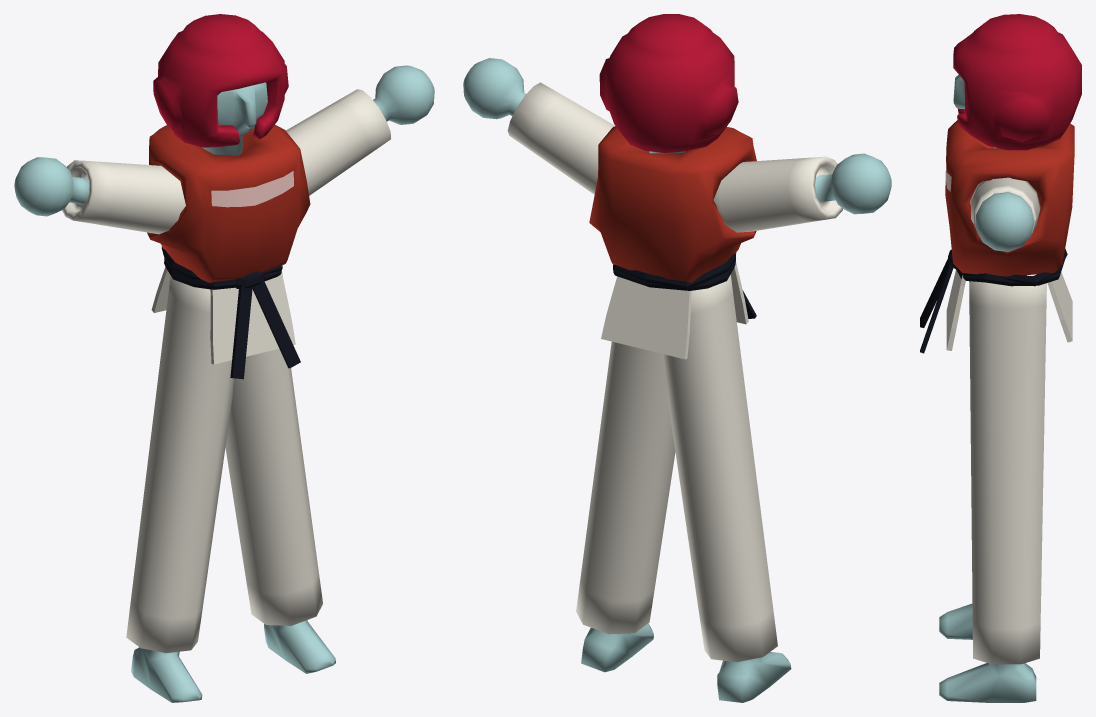
Rendered from player--fbx.fbx.
3 renders of one model, left to right at view 1: azimuth 30°, elevation 25°; view 2: azimuth 150°, elevation 25°; view 3: azimuth 270°, elevation 25°, orthographic. The views are drawn at different scales.
Parts seen in each view (by area): view 1: Cube.009, Cube.001, Cube, Sphere.005, Sphere.002, Sphere.006, Cube.008, Sphere.007, Cube.010, Cube.007, Torus; view 2: Cube.009, Cube.001, Cube, Sphere.005, Sphere.002, Sphere.006, Cube.002, Torus.001, Torus; view 3: Cube.001, Sphere.005, Cube, Sphere.006, Cube.009, Cube.002, Cube.008, Torus, Cube.010, Cube.007, Torus.001, Sphere.007.
Boxes of the visible parts, x1,y1,x2,y2 form: Cube.009: (126, 276, 233, 702); Cube.001: (225, 348, 335, 673); Cube: (147, 125, 310, 282); Sphere.005: (153, 14, 288, 147); Sphere.002: (14, 157, 185, 234); Sphere.006: (286, 65, 434, 195); Cube.008: (210, 270, 295, 364); Sphere.007: (202, 82, 267, 155); Cube.010: (252, 279, 300, 368); Cube.007: (230, 284, 252, 379); Torus: (164, 258, 281, 289); Cube.009: (664, 275, 791, 702); Cube.001: (576, 341, 675, 672); Cube: (589, 126, 756, 282); Sphere.005: (599, 14, 738, 152); Sphere.002: (713, 153, 891, 232); Sphere.006: (463, 58, 614, 194); Cube.002: (601, 276, 691, 359); Torus.001: (613, 254, 735, 289); Torus: (613, 253, 736, 290); Cube.001: (939, 274, 1046, 702); Sphere.005: (953, 14, 1081, 150); Cube: (945, 120, 1074, 276); Sphere.006: (970, 177, 1040, 251); Cube.009: (939, 603, 972, 639); Cube.002: (1047, 272, 1072, 342); Cube.008: (946, 270, 965, 350); Torus: (955, 260, 1064, 286); Cube.010: (920, 263, 953, 353); Cube.007: (920, 259, 949, 327); Torus.001: (958, 249, 1067, 286); Sphere.007: (953, 74, 997, 148).
Size of the model in its own units: 998 by 1485 by 338.
